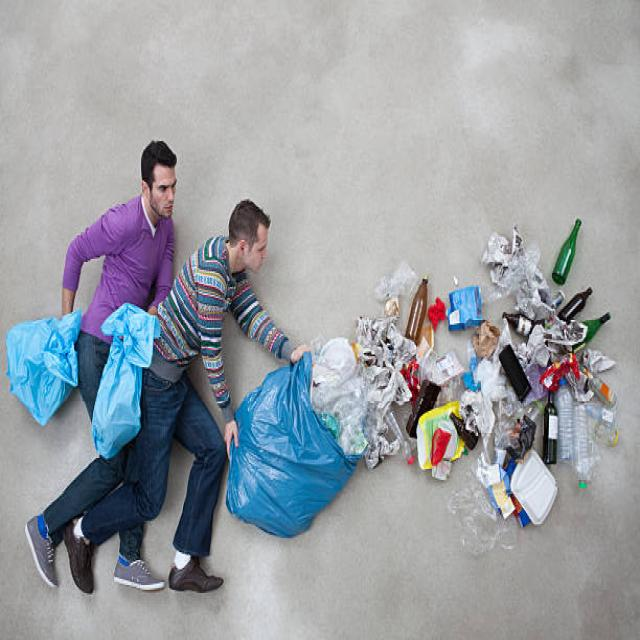glass: (559, 295, 616, 347), (554, 218, 588, 282), (400, 276, 431, 329), (540, 392, 562, 464)
plastic: (558, 366, 602, 484), (444, 287, 486, 333)
trash: (238, 325, 526, 544), (84, 316, 165, 456), (3, 318, 93, 412)
